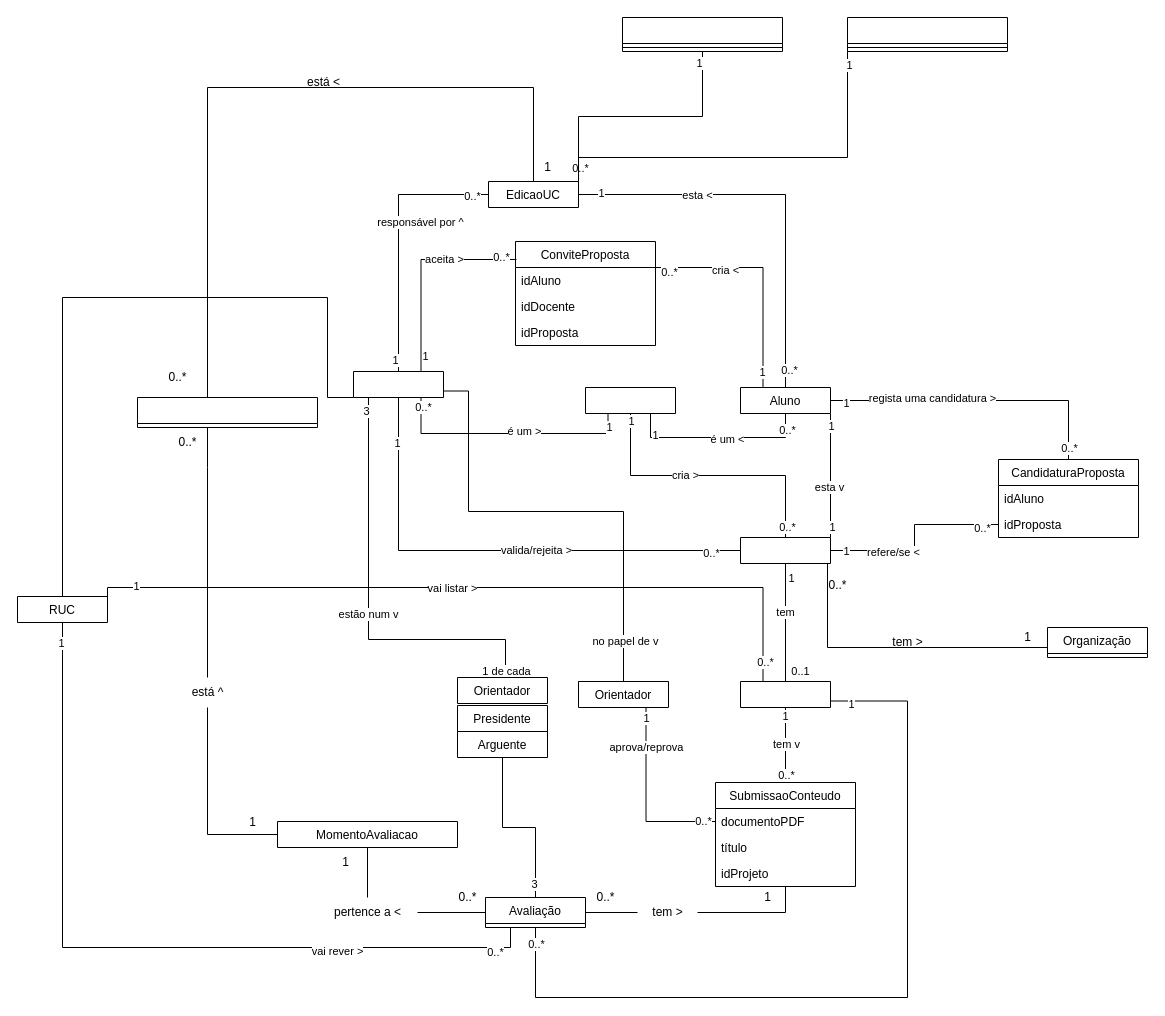
Some shapes in this 1165 by 1016 pixel diagram are drawn without their labels. Here are the shapes that lost their labels. From the top down, the centre of each, then its label:
At (702,34): "Ano Letivo".
At (927,34): "UnidadeCurricular".
At (398,384): "Docente".
At (630,400): "Utilizador".
At (227,412): "EdicaoMomentoAvaliacao".
At (785,550): "Proposta".
At (785,694): "Projeto".
